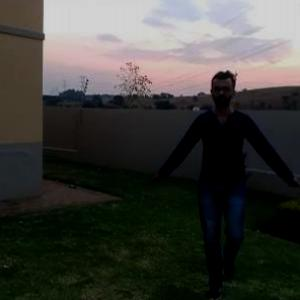land: (153, 63, 299, 299)
